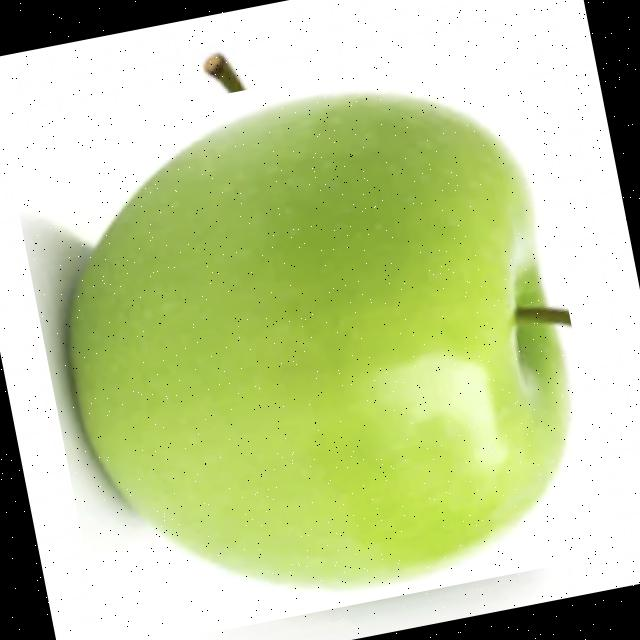Fresh Apple: (3, 37, 619, 639)
